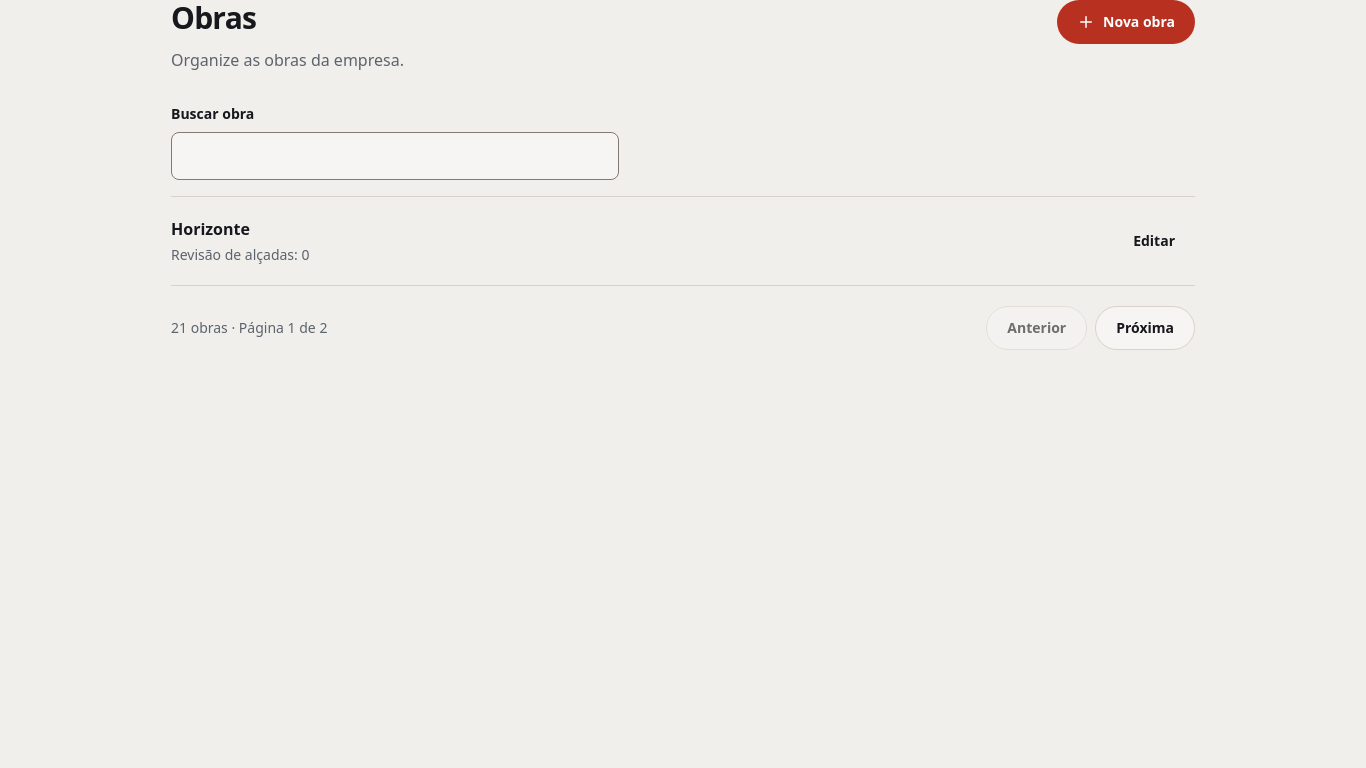
Scenario: Projects administration › maps server field errors and preserves the name
Click the button "Nova obra" at (1126, 22), box top-left (1057, 0), bottom-right (1195, 44)
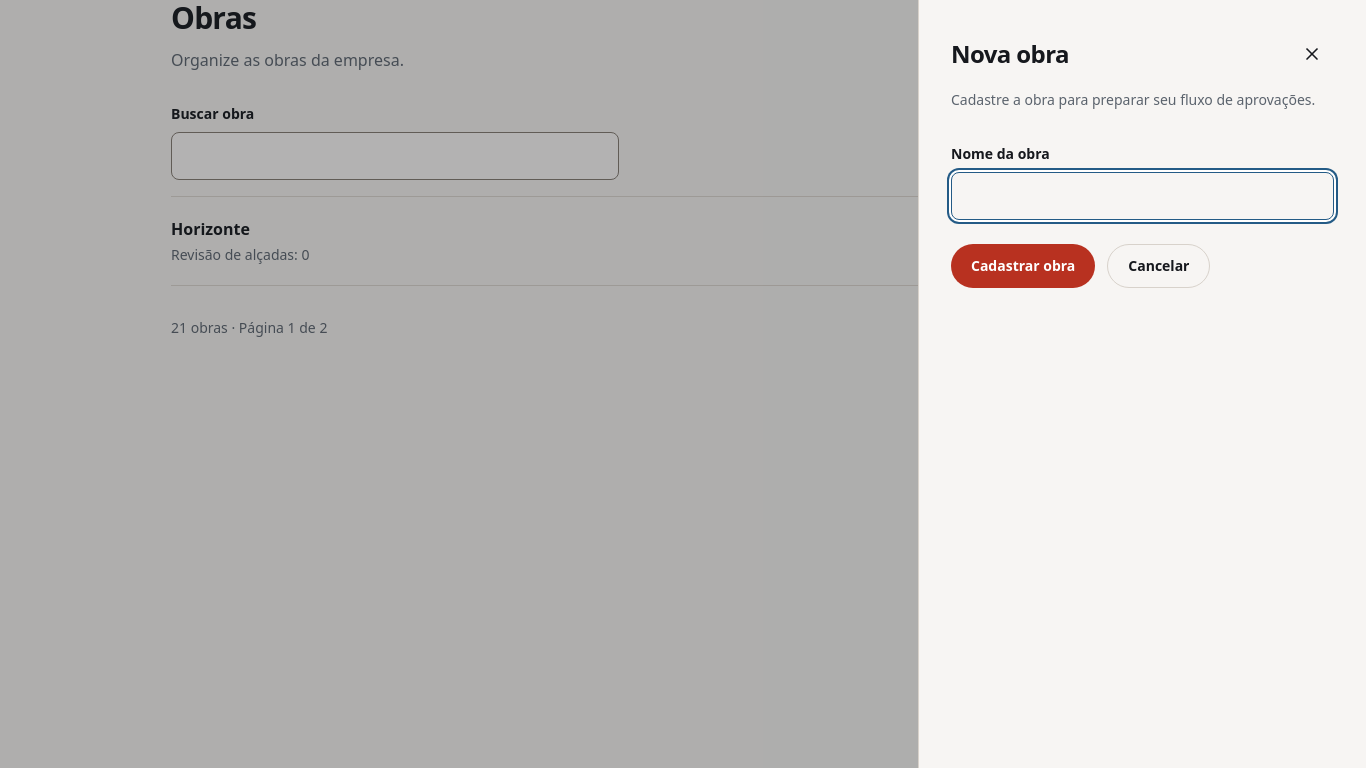
Type "Minha obra" into the field labelled "Nome da obra" at (1142, 196), box top-left (951, 172), bottom-right (1334, 220)
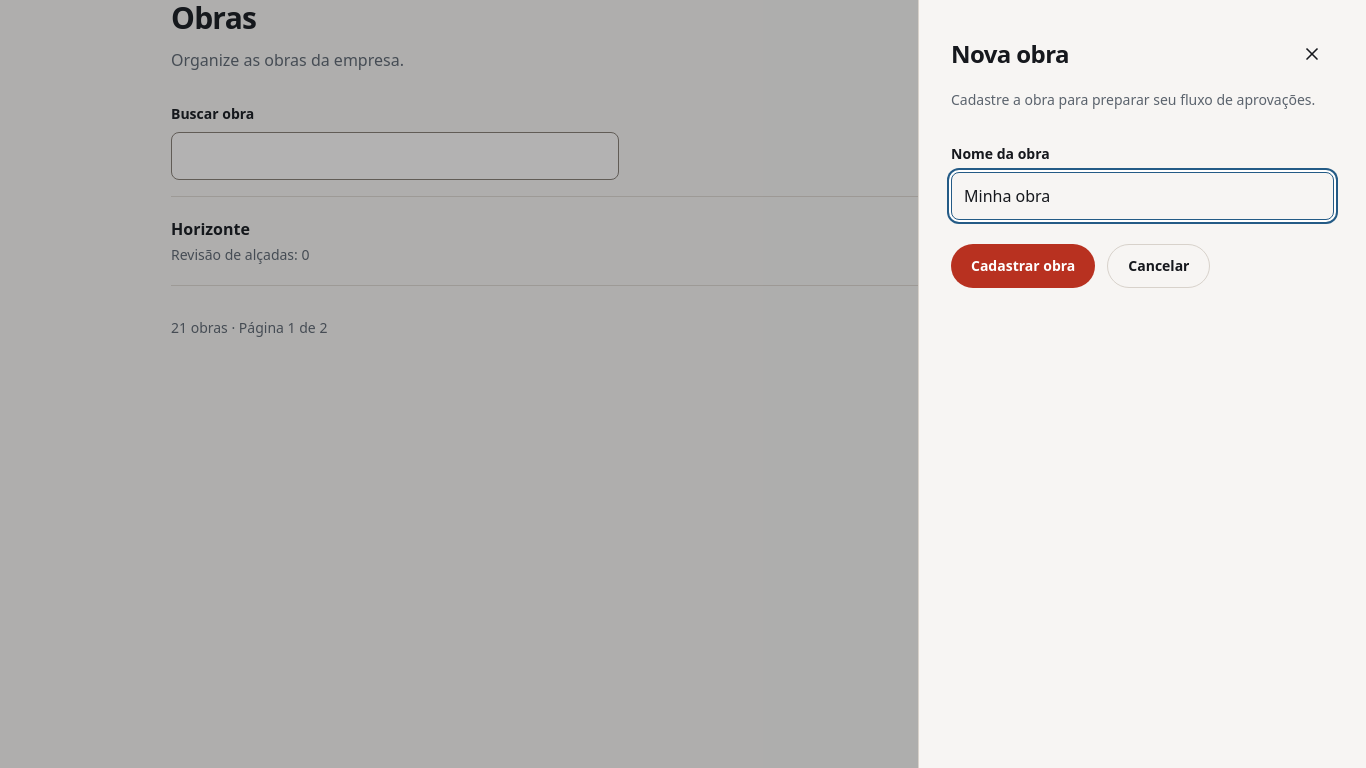
Click the button "Cadastrar obra" at (1023, 266), box top-left (951, 244), bottom-right (1095, 288)
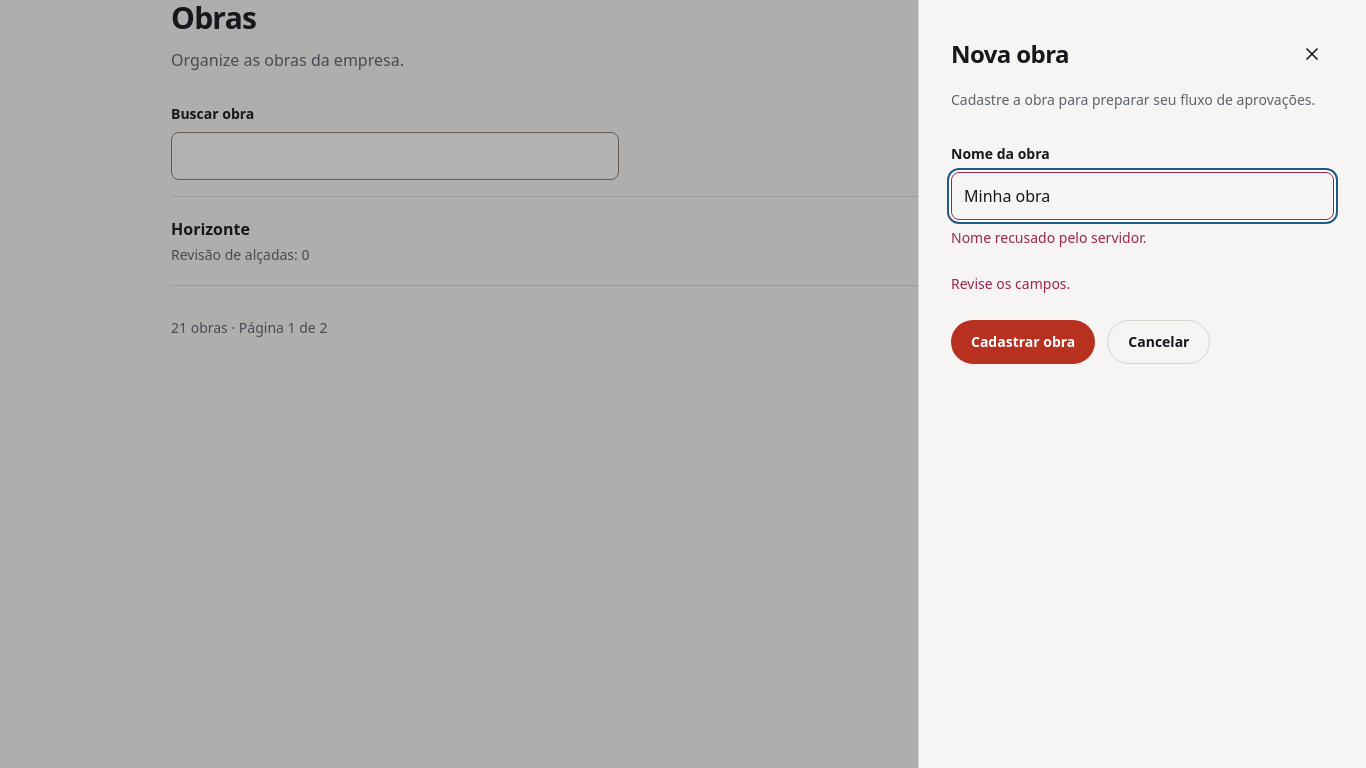
Result: the text "Nome recusado pelo servidor." is shown at top-left (951, 228), bottom-right (1146, 247)
